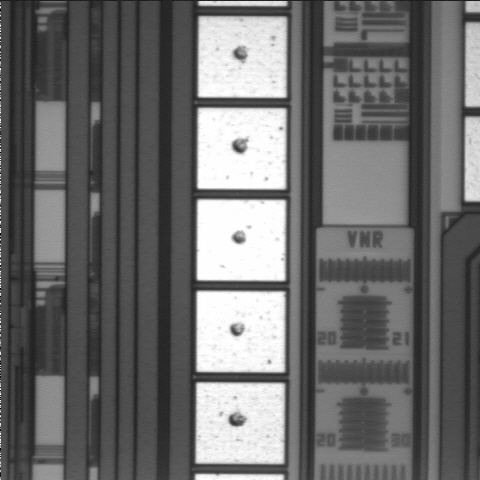pad: (198, 16, 287, 98), (197, 199, 286, 281), (197, 108, 286, 189), (196, 383, 285, 464), (197, 291, 285, 372)
